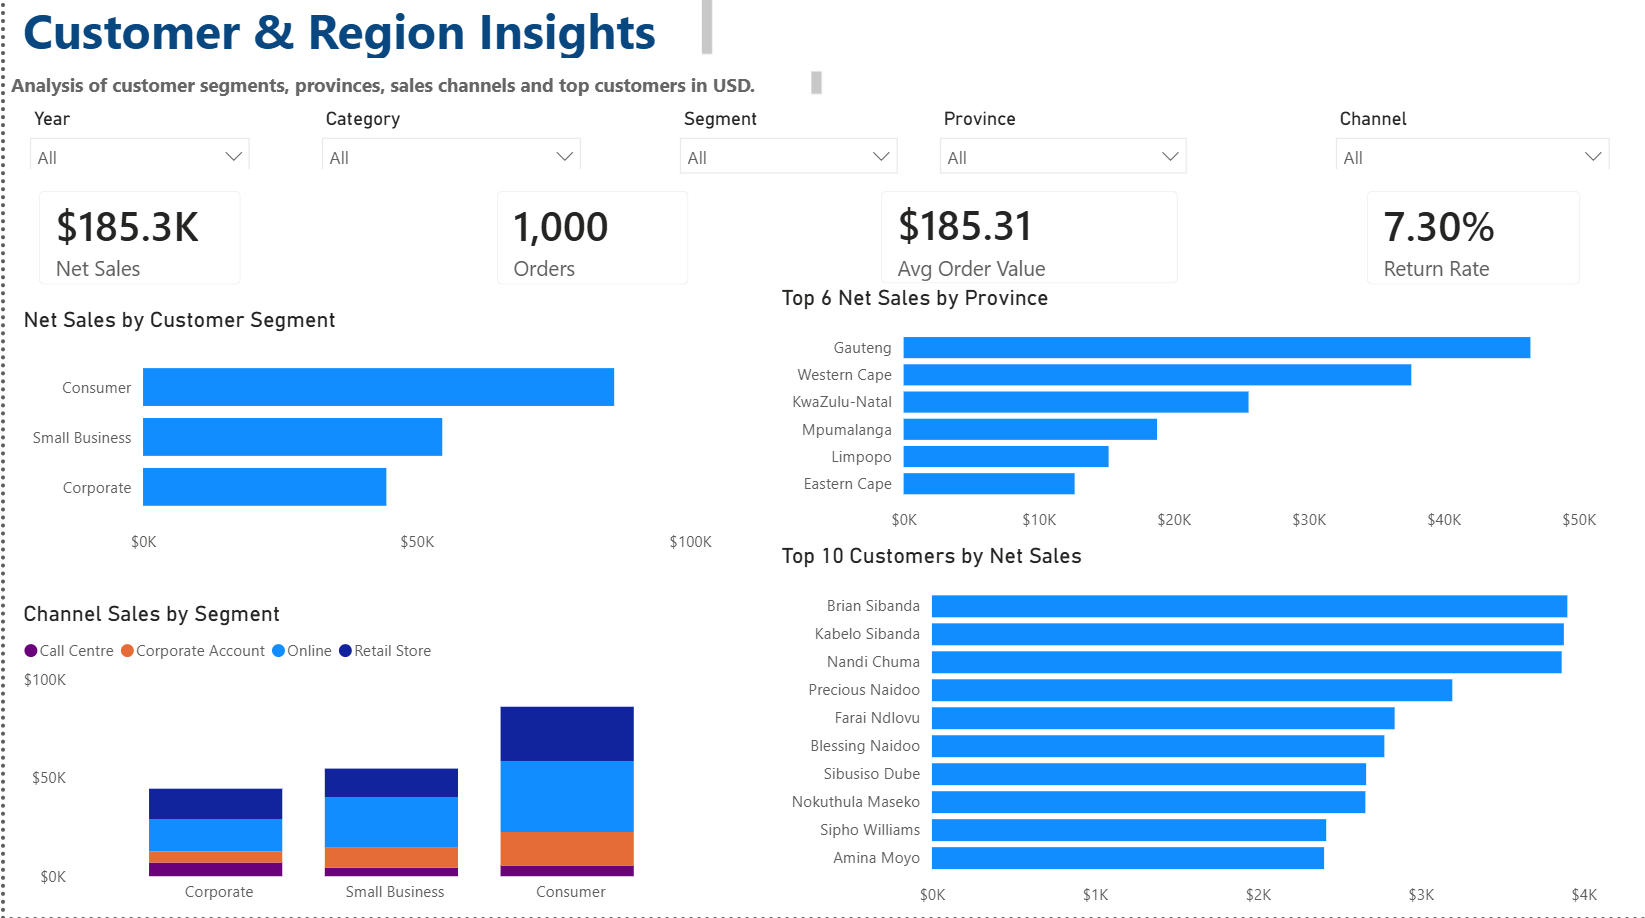

Layout of this report page (visuals, bound fields, positions):
{"tool":"powerbi","page":{"name":"Customer & Region Insights","canvas":[1280,720],"ordinal":3},"visuals":[{"type":"textbox","box":[9.5,0,545.3,56.8],"z":0},{"type":"cardVisual","fields":{"Data":["Fact_Sales.Net Sales Display"]},"box":[9.5,138.2,191.2,107.9],"z":1000},{"type":"cardVisual","fields":{"Data":["Fact_Sales.Orders Display"]},"box":[365.4,138.2,183.7,107.9],"z":2000},{"type":"cardVisual","fields":{"Data":["Fact_Sales.Average Order Value Display"]},"box":[664.6,138.2,265.1,106],"z":3000},{"type":"cardVisual","fields":{"Data":["Fact_Sales.Return Rate"]},"box":[1041.4,138.2,200.7,107.9],"z":4000},{"type":"textbox","box":[0,56.8,640,28.4],"z":5000},{"type":"slicer","fields":{"Values":["Dim_Date.Year"]},"box":[9.5,85.2,191.2,53],"z":6000},{"type":"slicer","fields":{"Values":["Dim_Product.Category"]},"box":[236.7,85.2,221.5,53],"z":7000},{"type":"slicer","fields":{"Values":["Dim_Customer.Province"]},"box":[717.6,85.2,212.1,68.2],"z":8000},{"type":"slicer","fields":{"Values":["Fact_Sales.Channel"]},"box":[1024.4,85.2,232.9,53],"z":9000},{"type":"slicer","fields":{"Values":["Dim_Customer.Segment"]},"box":[515,85.2,189.3,66.3],"z":10000},{"type":"clusteredBarChart","title":"Net Sales by Customer Segment","fields":{"Category":["Dim_Customer.Segment"],"Y":["Fact_Sales.Net Sales"]},"box":[9.5,246.2,545.3,200.7],"z":11000},{"type":"clusteredBarChart","title":"Top 6 Net Sales by Province","fields":{"Category":["Dim_Customer.Province"],"Y":["Fact_Sales.Net Sales"]},"box":[598.3,229.1,643.8,200.7],"z":12000},{"type":"columnChart","title":"Channel Sales by Segment","fields":{"Category":["Dim_Customer.Segment"],"Y":["Fact_Sales.Net Sales"],"Series":["Fact_Sales.Channel"]},"box":[9,475,545,244],"z":13000},{"type":"clusteredBarChart","title":"Top 10 Customers by Net Sales","fields":{"Category":["Dim_Customer.Customer_Name"],"Y":["Fact_Sales.Net Sales"]},"box":[598.3,429.8,643.8,291.6],"z":14000}]}

Visuals, with their boxes in screenshot pixels (x1, y1, x2, y2), scaled from the page's 1280x720 canvas onto the 1645x918 screenshot:
textbox: 12/0/713/72
cardVisual - Fact_Sales.Net Sales Display: 12/176/258/314
cardVisual - Fact_Sales.Orders Display: 470/176/706/314
cardVisual - Fact_Sales.Average Order Value Display: 854/176/1195/311
cardVisual - Fact_Sales.Return Rate: 1338/176/1596/314
textbox: 0/72/822/109
slicer - Dim_Date.Year: 12/109/258/176
slicer - Dim_Product.Category: 304/109/589/176
slicer - Dim_Customer.Province: 922/109/1195/196
slicer - Fact_Sales.Channel: 1317/109/1616/176
slicer - Dim_Customer.Segment: 662/109/905/193
"Net Sales by Customer Segment" clusteredBarChart: 12/314/713/570
"Top 6 Net Sales by Province" clusteredBarChart: 769/292/1596/548
"Channel Sales by Segment" columnChart: 12/606/712/917
"Top 10 Customers by Net Sales" clusteredBarChart: 769/548/1596/917
